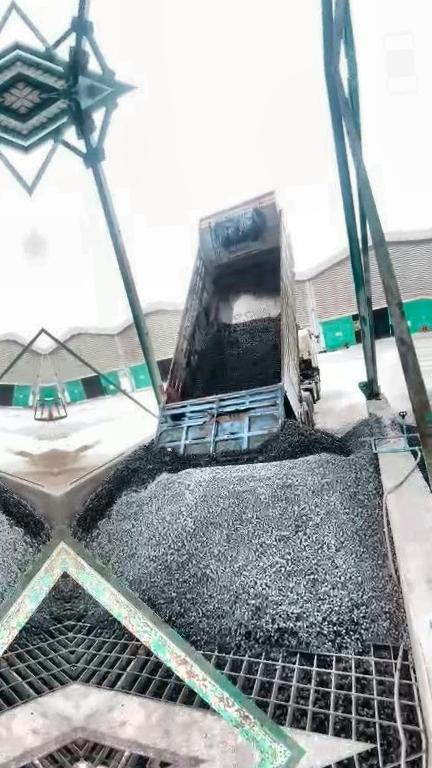gravel: (72, 411, 400, 653), (185, 318, 279, 398), (67, 578, 124, 638)
sand: (54, 442, 109, 492)
